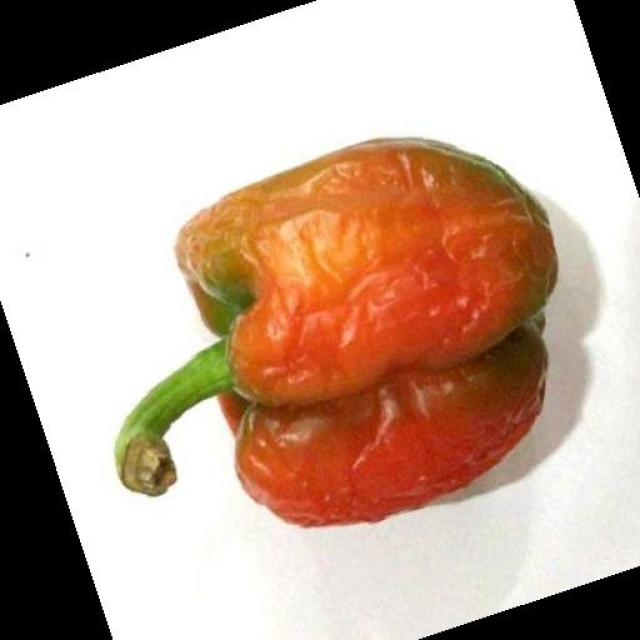Stale_Capsicum: (120, 124, 580, 534)
